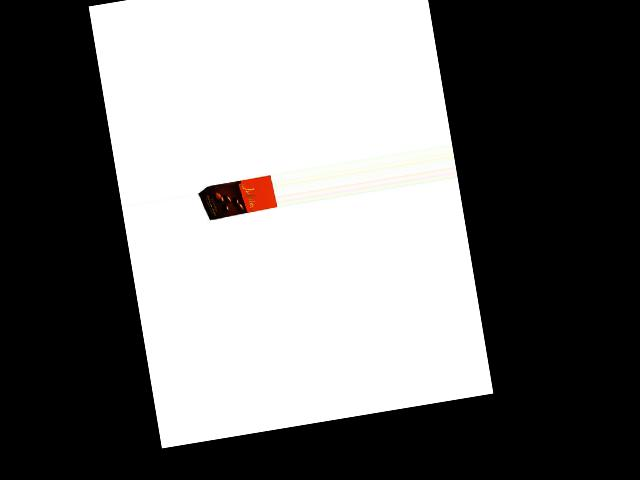chocolate: (197, 173, 277, 225)
